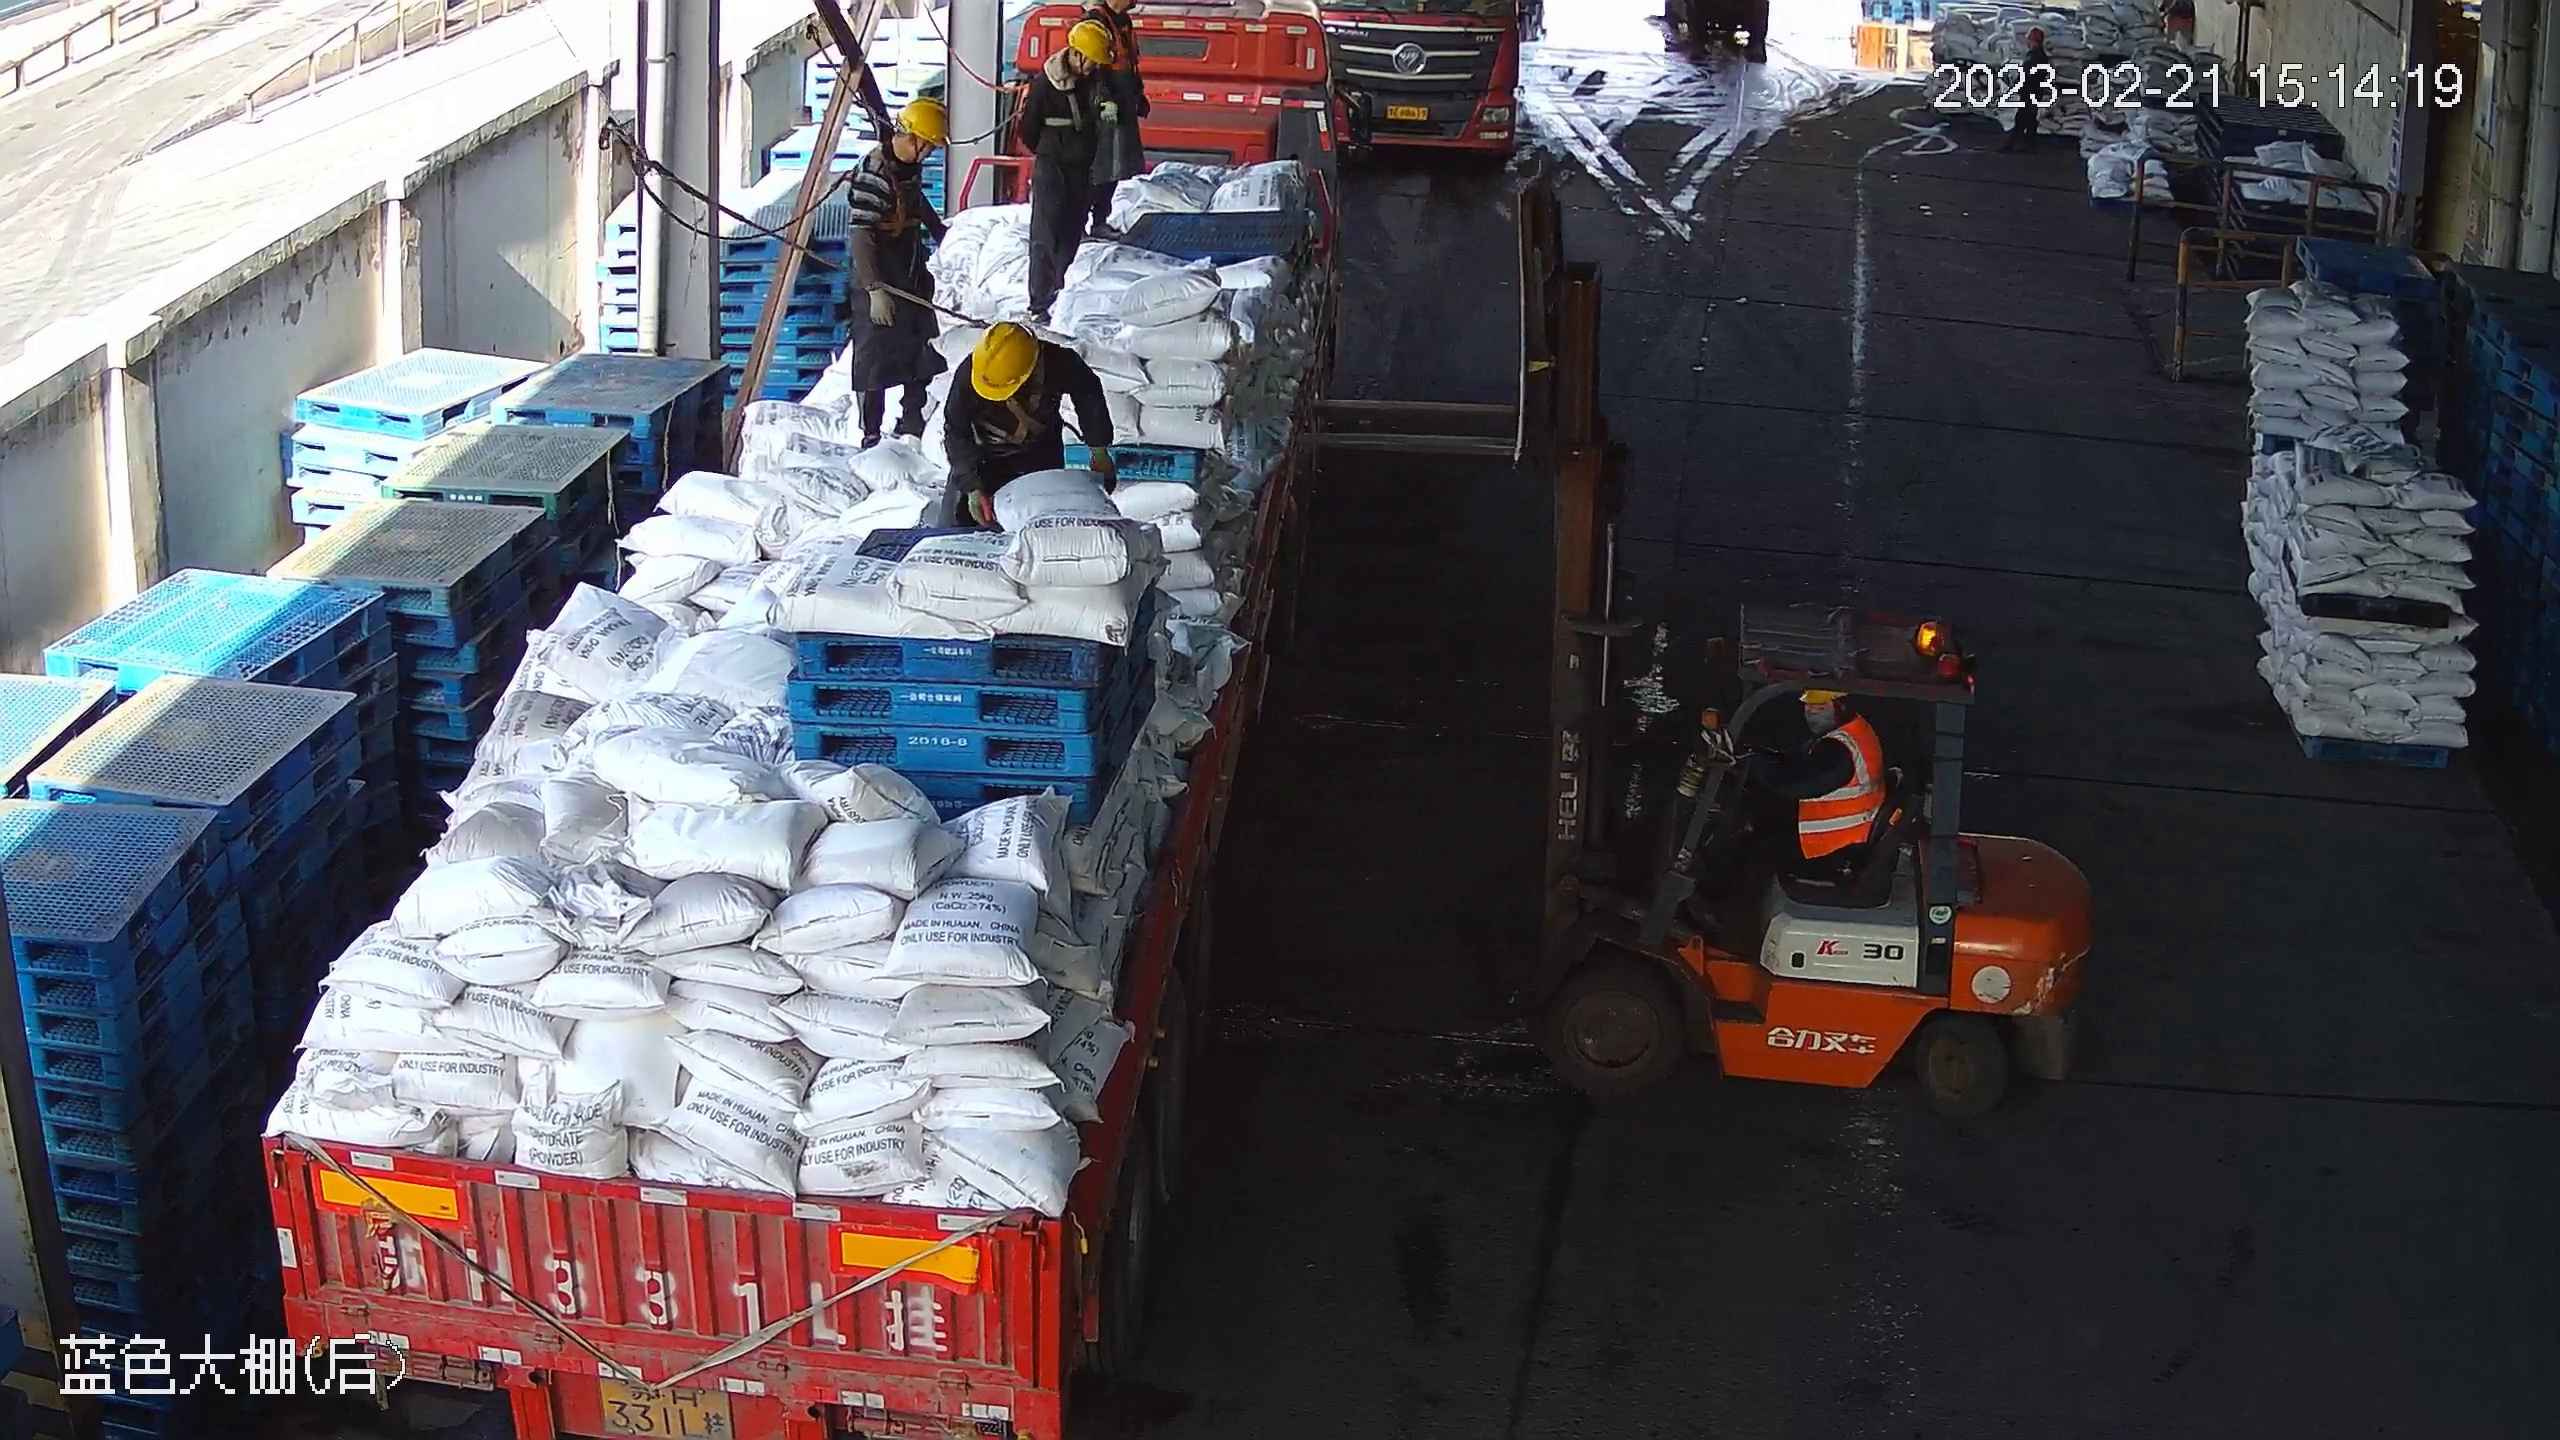belt: (976, 344, 1048, 444), (868, 149, 924, 236), (1091, 6, 1139, 70), (1042, 89, 1099, 132)
head: (950, 320, 1074, 426), (845, 100, 952, 199), (1026, 18, 1115, 100)
helmet: (972, 320, 1039, 400), (896, 98, 951, 149), (1067, 19, 1115, 65)
people: (1699, 689, 1887, 928), (942, 321, 1120, 536), (845, 99, 952, 451), (1017, 18, 1115, 322), (1086, 1, 1152, 241)
truck: (258, 1, 1374, 1440), (1315, 1, 1517, 151)
